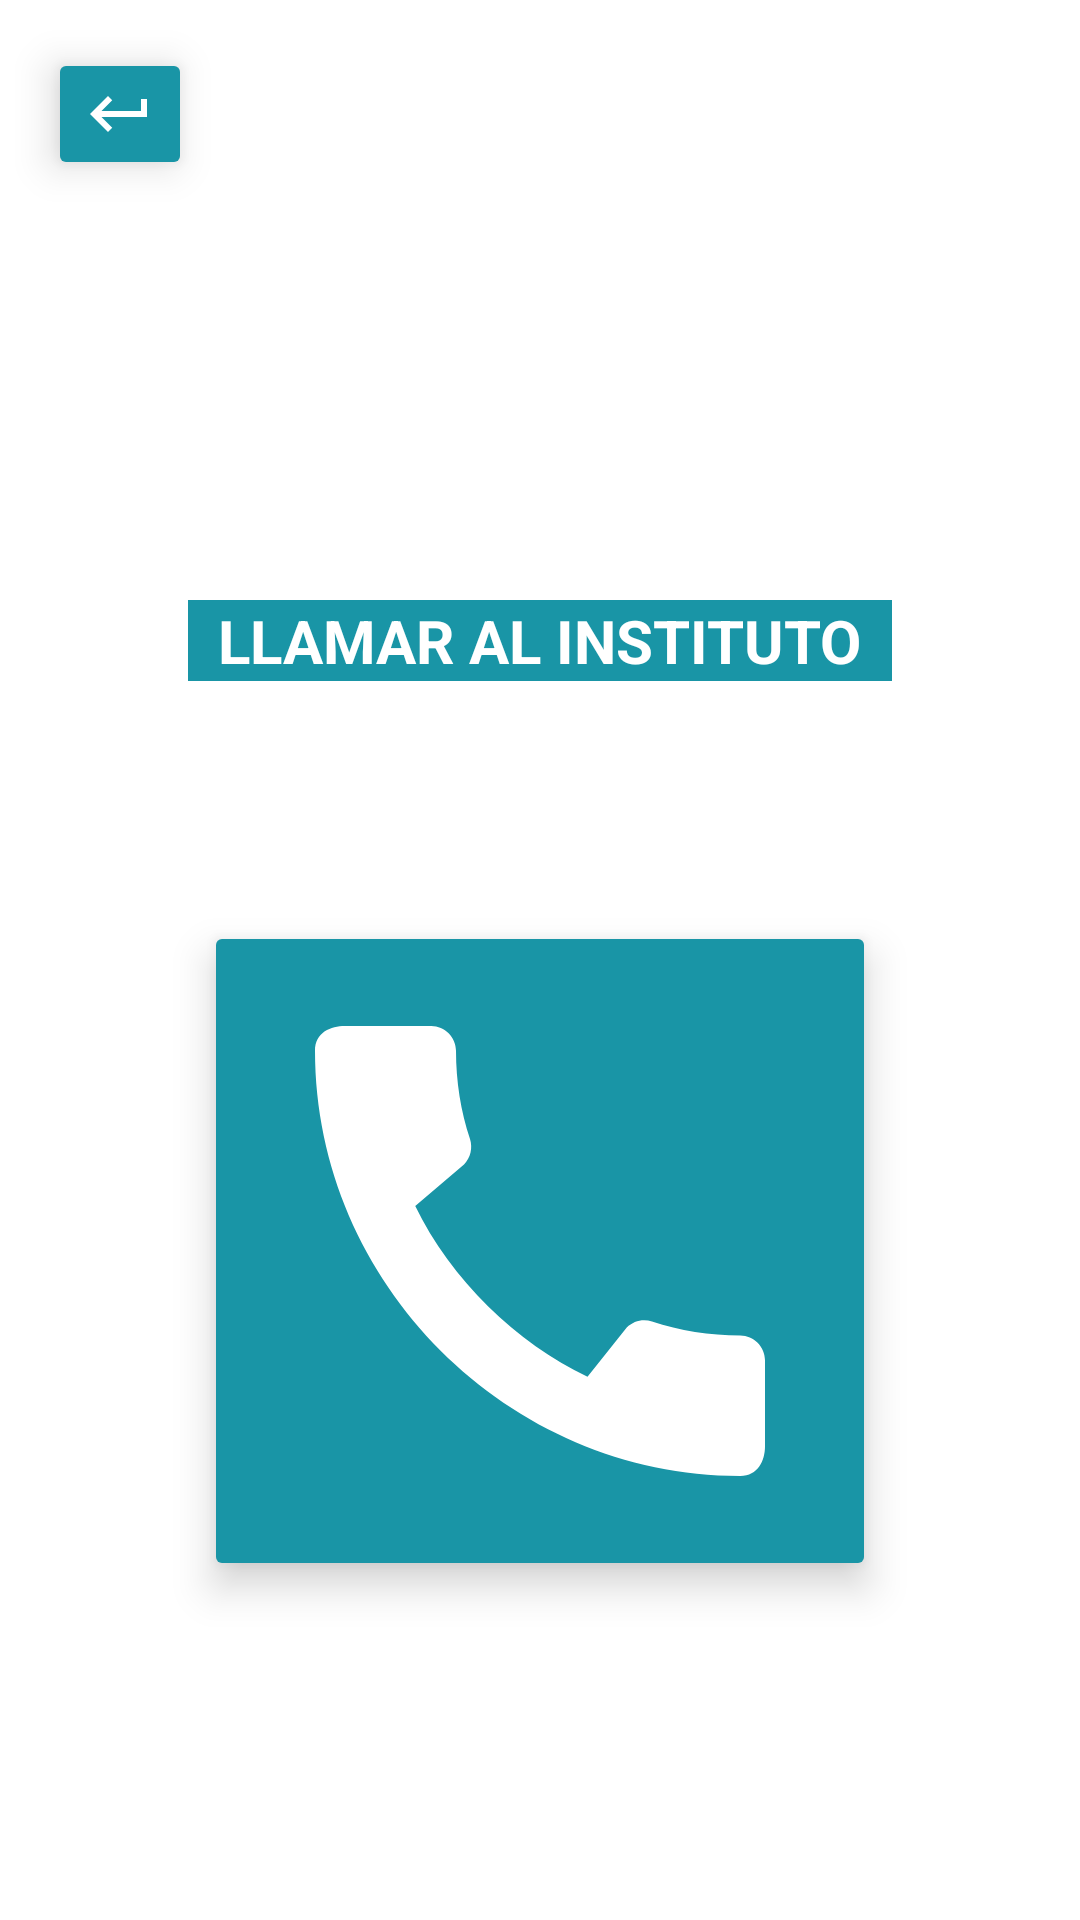

Point at icon controls on the screen. Image size 1080x1920, points as [x,y].
return: [119,114]
